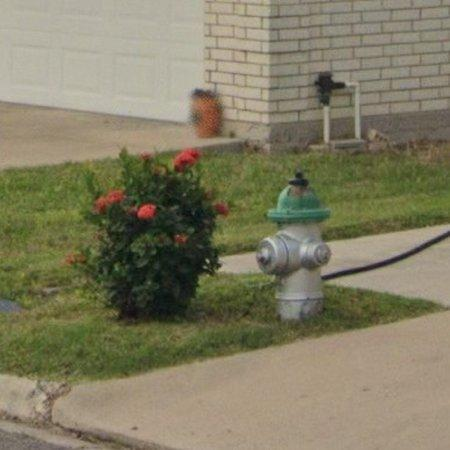a fire hydrant: (257, 171, 332, 321)
